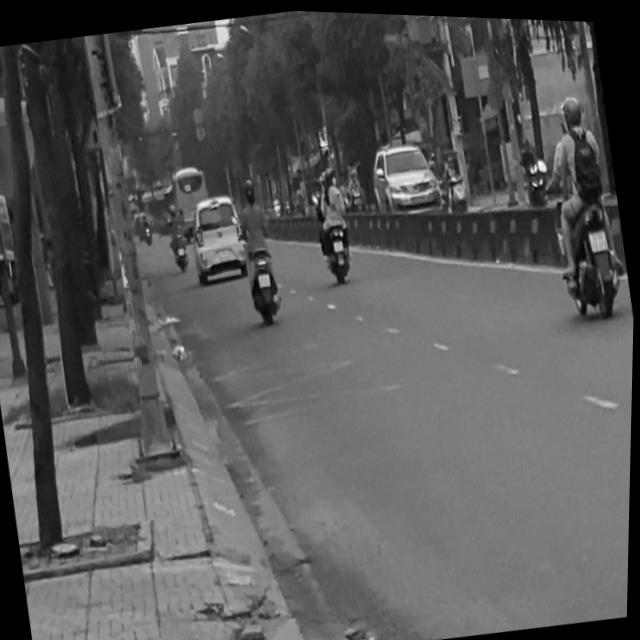helmet: (561, 88, 586, 126)
licenseplate: (533, 84, 636, 320)
nohelmet: (589, 225, 610, 247)
